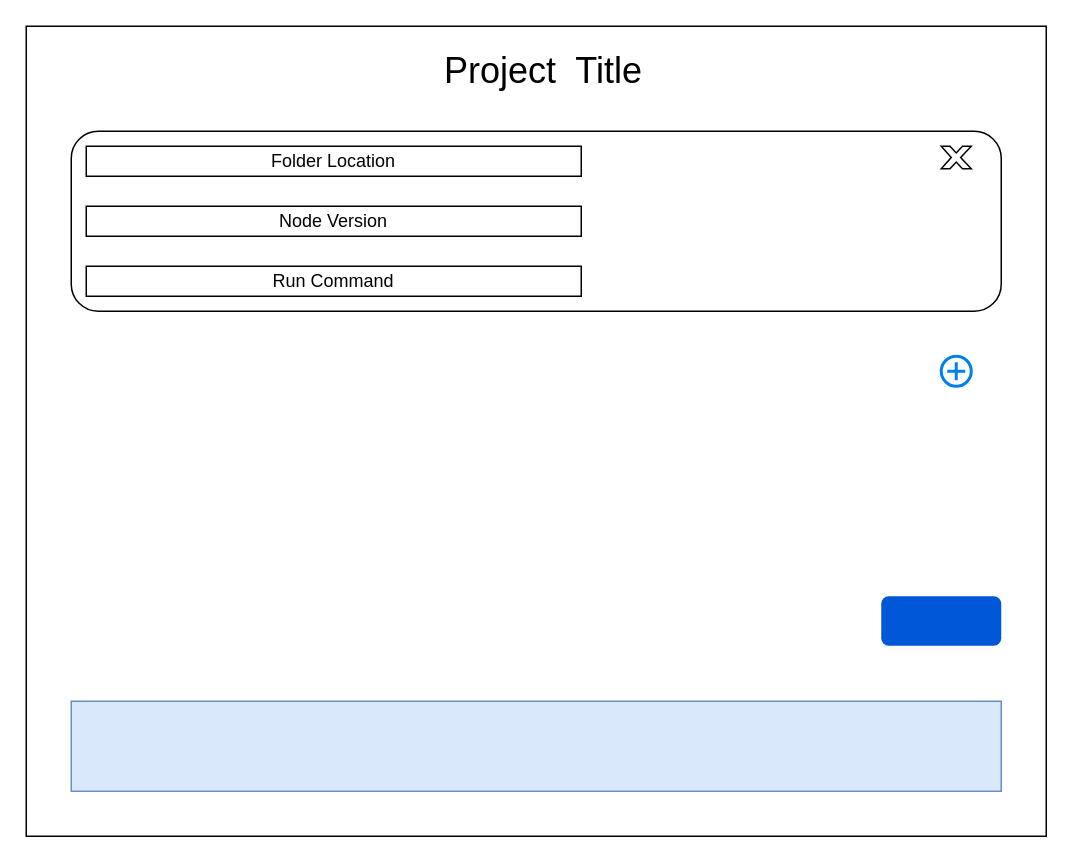
Some shapes in this 1073 by 863 pixel diagram are drawn without their labels. Each missing label, with the box of its shape:
Export: (880, 596, 1000, 645)
Notes: (70, 700, 1001, 791)
